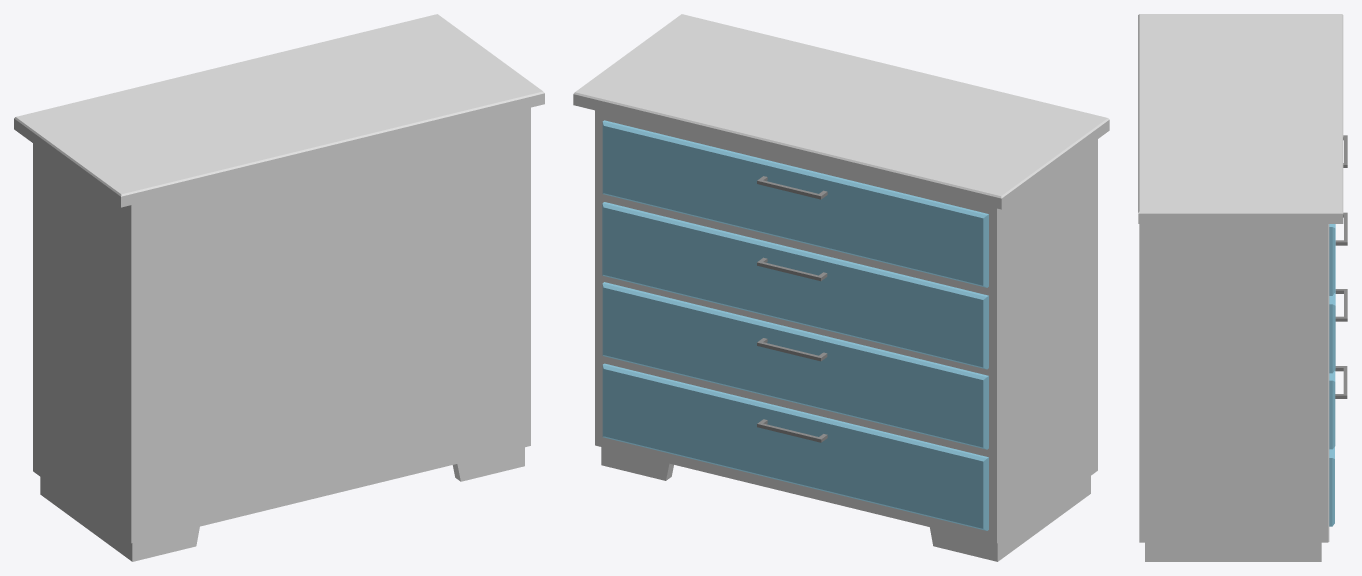
File: FURNITURE_commode_02.FBX
The picture shows the model from 3 angles, left to right: view 1: azimuth 30°, elevation 25°; view 2: azimuth 150°, elevation 25°; view 3: azimuth 270°, elevation 25°; orthographic projection. The views are drawn at different scales.
Parts seen in each view (by area): view 1: FURNITURE_commode_02_base; view 2: FURNITURE_commode_02_base, FURNITURE_commode_02_drawer_02, FURNITURE_commode_02_drawer_03, FURNITURE_commode_02_drawer_01, FURNITURE_commode_02_drawer_04; view 3: FURNITURE_commode_02_base, FURNITURE_commode_02_drawer_02, FURNITURE_commode_02_drawer_03, FURNITURE_commode_02_drawer_04, FURNITURE_commode_02_drawer_01.
Part boxes in pixels (box(x1,y1,x2,y2)): FURNITURE_commode_02_base: box(14, 14, 544, 561); FURNITURE_commode_02_base: box(573, 14, 1109, 561); FURNITURE_commode_02_drawer_02: box(602, 202, 988, 369); FURNITURE_commode_02_drawer_03: box(602, 282, 988, 449); FURNITURE_commode_02_drawer_01: box(602, 120, 988, 287); FURNITURE_commode_02_drawer_04: box(602, 363, 988, 530); FURNITURE_commode_02_base: box(1138, 14, 1343, 561); FURNITURE_commode_02_drawer_02: box(1329, 212, 1347, 373); FURNITURE_commode_02_drawer_03: box(1329, 289, 1347, 449); FURNITURE_commode_02_drawer_04: box(1329, 366, 1347, 526); FURNITURE_commode_02_drawer_01: box(1329, 135, 1347, 295).
Size of the model in its own units: 173 by 146 by 77.44.
